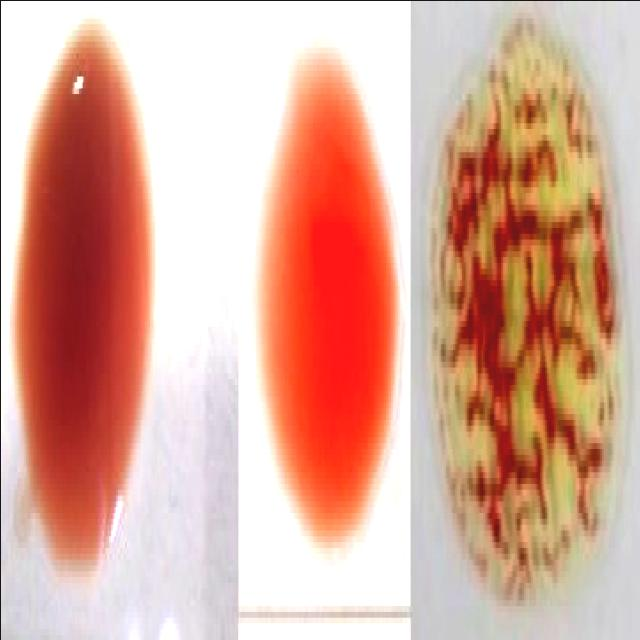B: (434, 36, 618, 572)
